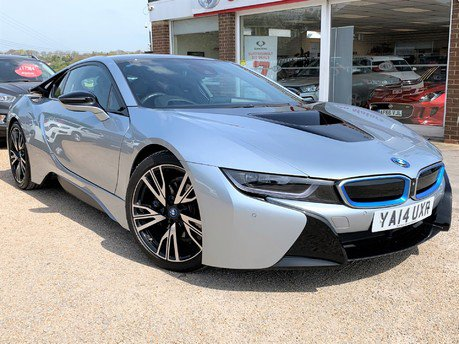car: (6, 50, 455, 273)
